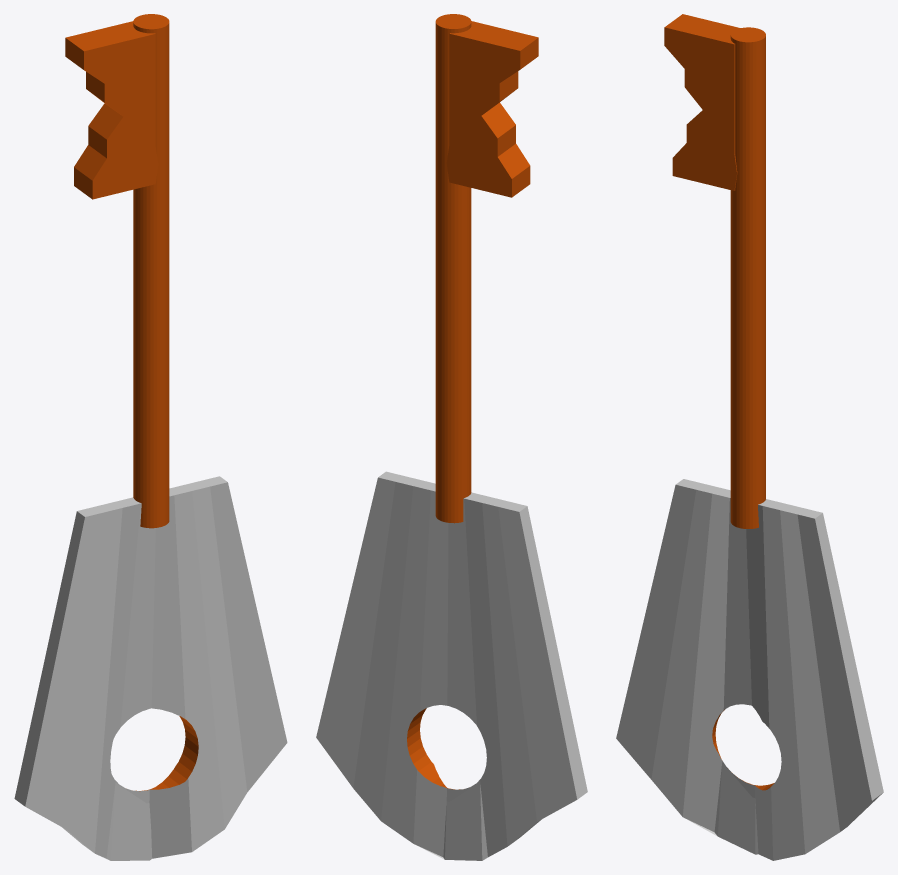
The model's file is safe_key_v2.obj.
3 views of the same model, side by side, from view 1: azimuth 30°, elevation 25°; view 2: azimuth 150°, elevation 25°; view 3: azimuth 330°, elevation 25° (orthographic). The views are drawn at different scales.
Parts seen in each view (by area): view 1: Cube.001_Cube.003; view 2: Cube.001_Cube.003; view 3: Cube.001_Cube.003.
Part boxes in pixels (bbox=[...]): Cube.001_Cube.003: bbox=[14, 14, 287, 860]; Cube.001_Cube.003: bbox=[316, 14, 587, 860]; Cube.001_Cube.003: bbox=[616, 14, 883, 860].
Size of the model in its own units: 0.265 by 0.8139 by 0.0327.
